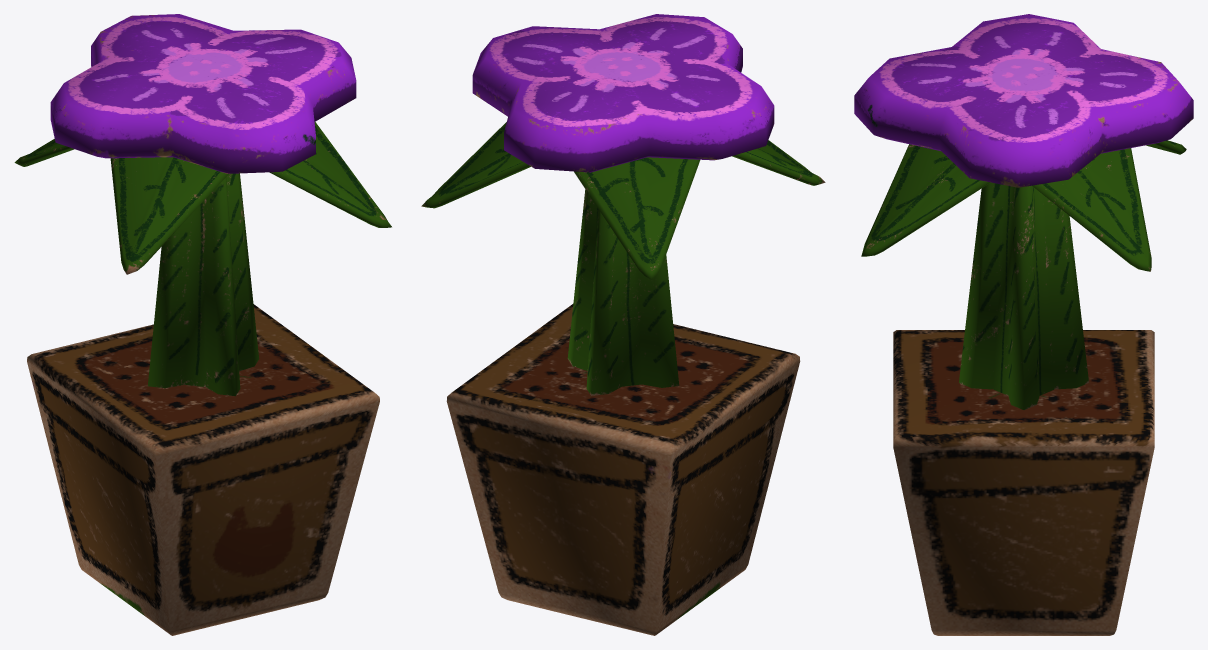
File: 20s_PlantPot1.fbx
The picture shows the model from 3 angles, left to right: view 1: azimuth 30°, elevation 25°; view 2: azimuth 150°, elevation 25°; view 3: azimuth 270°, elevation 25°; orthographic projection.
Visible parts, largest first — view 1: 20s_Plantpot1; view 2: 20s_Plantpot1; view 3: 20s_Plantpot1.
Boxes of the visible parts, x1=… form: 20s_Plantpot1: x1=14, y1=14, x2=391, y2=635; 20s_Plantpot1: x1=421, y1=14, x2=825, y2=635; 20s_Plantpot1: x1=854, y1=14, x2=1193, y2=635.
Size of the model in its own units: 59.51 by 102 by 59.51.
